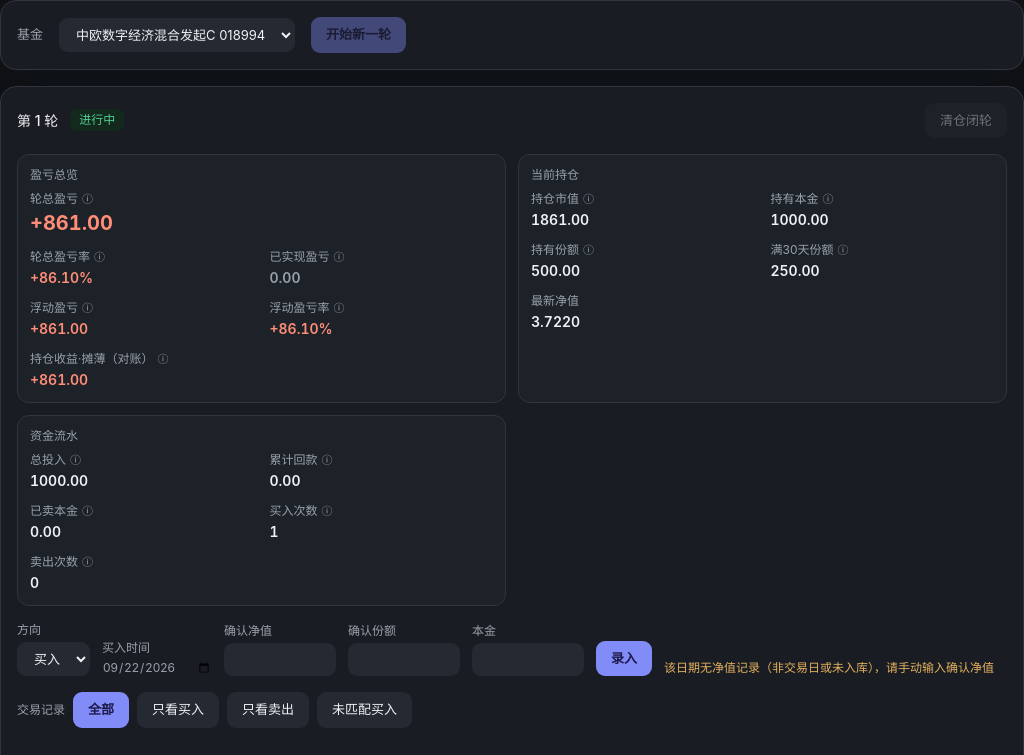
Rounds › 指标 ⓘ 点击弹出计算公式气泡，再点关闭
Expected: the text "第 1 轮" is shown, [17,110,58,131]
Click the button named "浮动盈亏计算公式" at (88, 308), box [81,302,94,314]
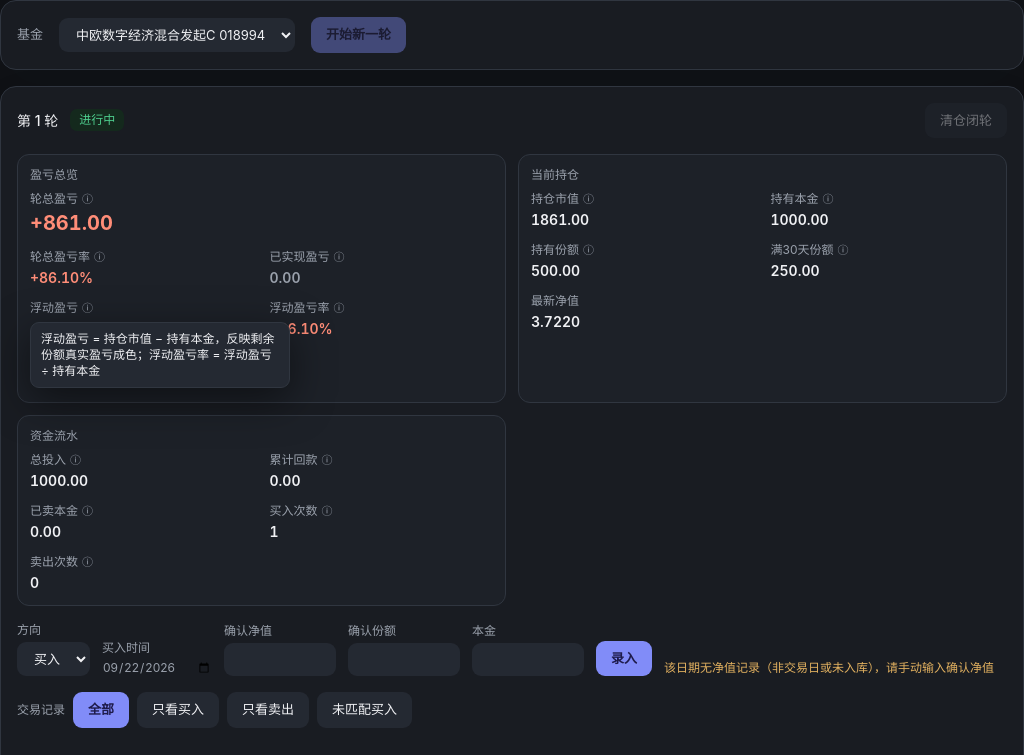
Now the tooltip "浮动盈亏 = 持仓市值 − 持有本金，反映剩余份额真实盈亏成色；浮动盈亏率 = 浮动盈亏 ÷ 持有本金" is shown, box [30,322,290,388]
Now the tooltip shows "浮动盈亏 = 持仓市值 − 持有本金", box [41,331,274,378]
Click the button named "浮动盈亏计算公式" at (88, 308), box [81,302,94,314]
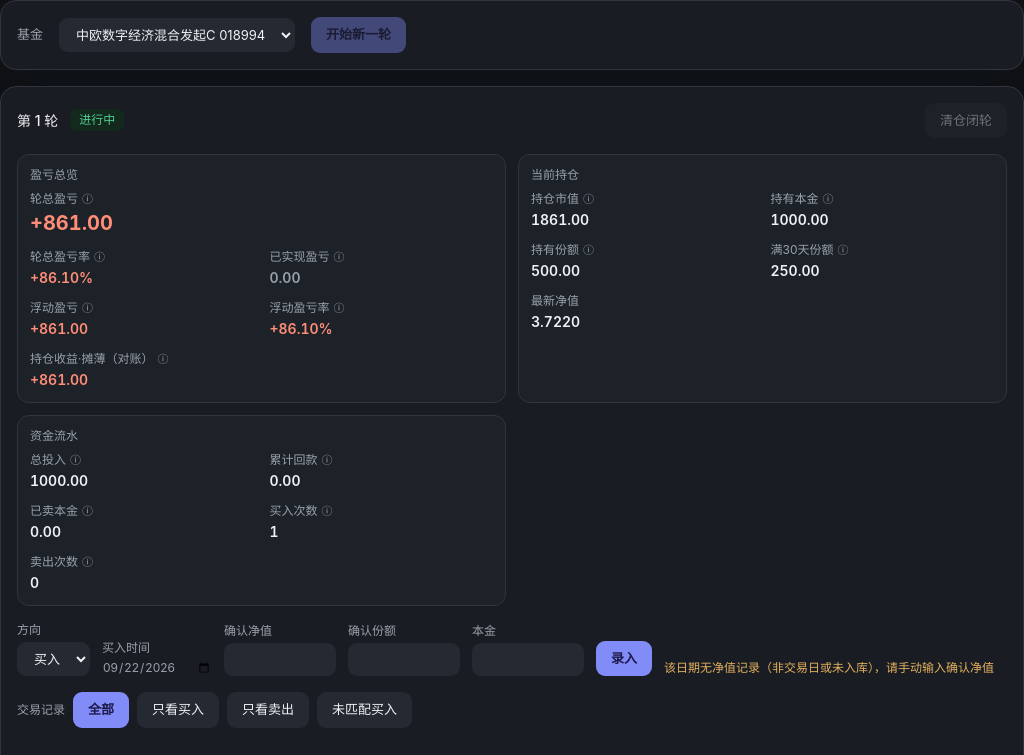
Now the tooltip "浮动盈亏 = 持仓市值 − 持有本金，反映剩余份额真实盈亏成色；浮动盈亏率 = 浮动盈亏 ÷ 持有本金" is gone
